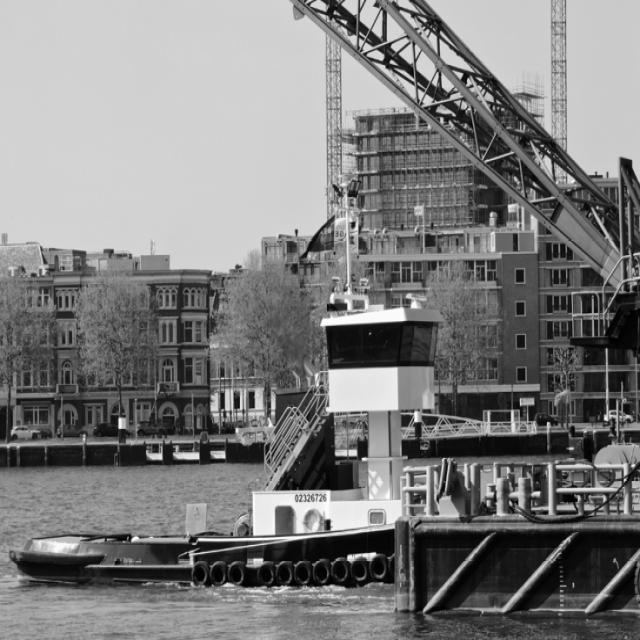tugboat: (5, 291, 640, 601)
